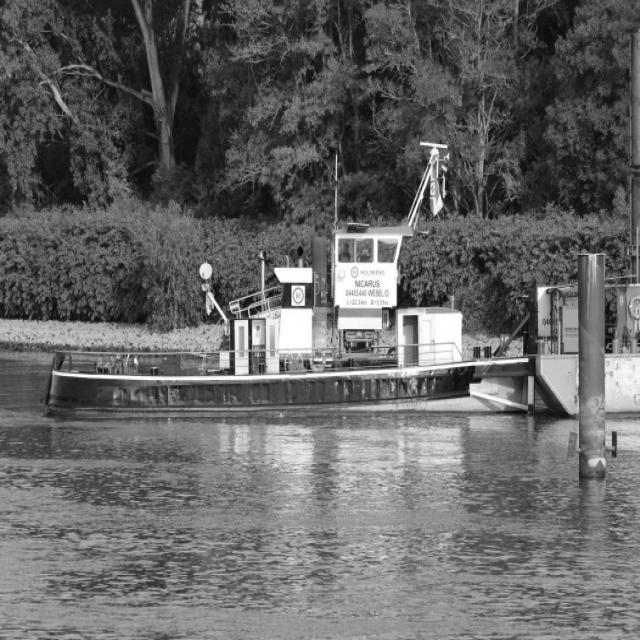tugboat: (37, 214, 544, 437)
